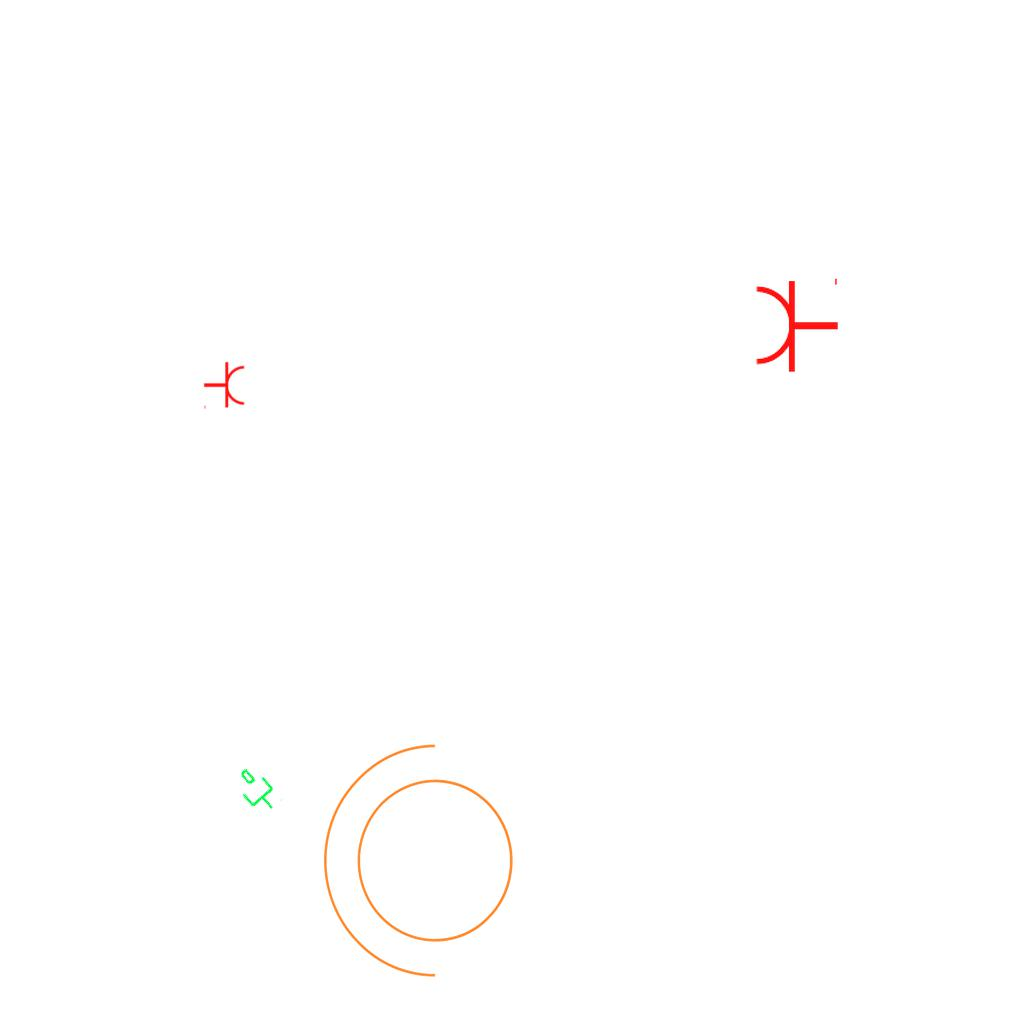Datenanschluss_einfach: (226, 760, 286, 822)
Scheinwerfer_fuer_Alarmbeleuchtung: (313, 735, 538, 999)
Schukosteckdose_einfach: (753, 274, 840, 374), (203, 361, 246, 411)
